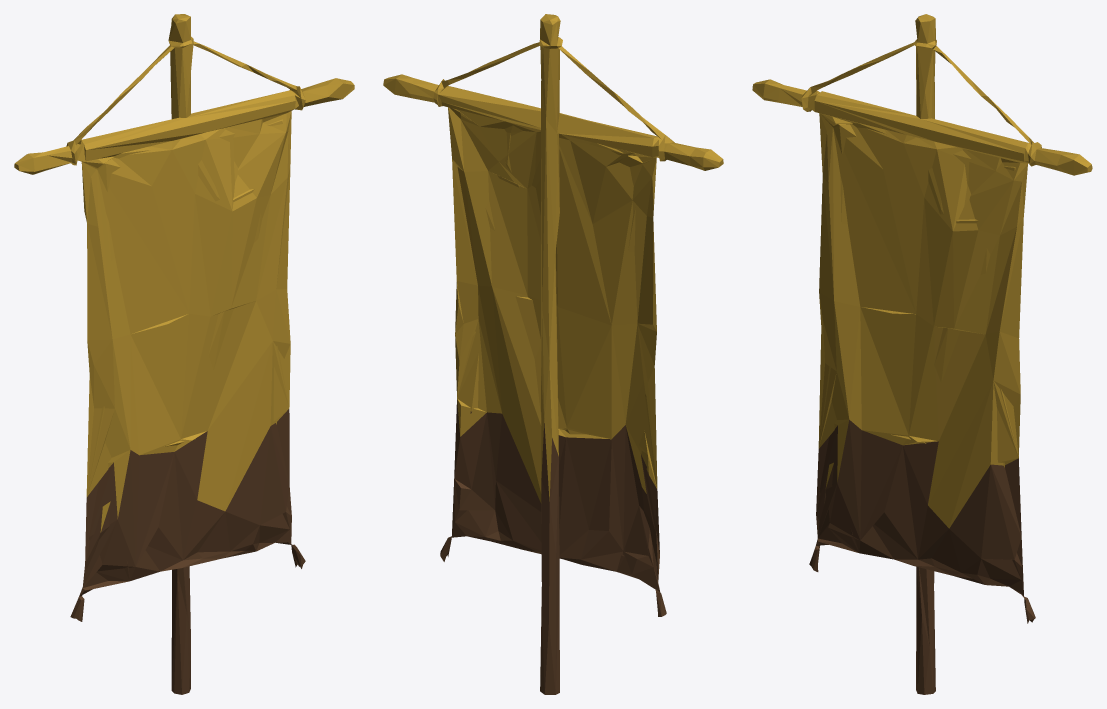
Rendered from banner-2.glb.
The picture shows the model from 3 angles, left to right: view 1: azimuth 30°, elevation 25°; view 2: azimuth 150°, elevation 25°; view 3: azimuth 330°, elevation 25°; orthographic projection.
Parts seen in each view (by area): view 1: output_unwrapped; view 2: output_unwrapped; view 3: output_unwrapped.
Boxes of the visible parts, box(x1,y1,x2,y2) form: output_unwrapped: box(14, 14, 354, 694); output_unwrapped: box(383, 14, 723, 694); output_unwrapped: box(752, 14, 1092, 694).
Size of the model in its own units: 1.46 by 2.8 by 0.1422.
